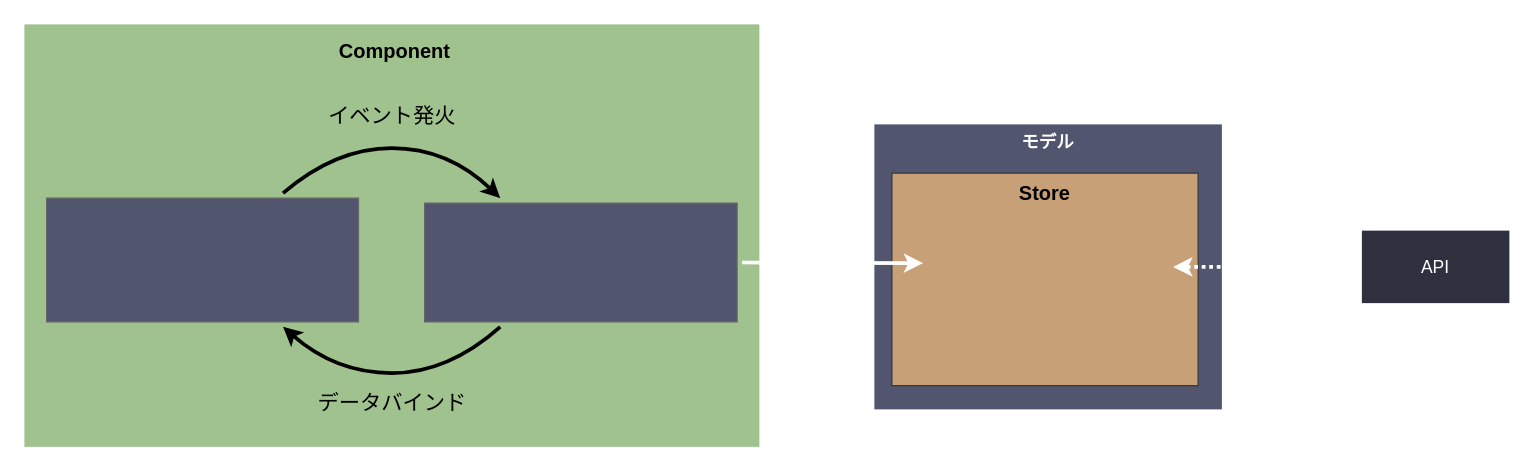
This 1533x470 diagram has some shape labels left out. The box of each missing label's shape, as (x1, y1, x2, y2) in pixels:
ビュー (データバインド、デザイン、 フォーマット): (45, 197, 358, 322)
ビューモデル (イベント処理、入力チェック): (423, 202, 737, 322)
